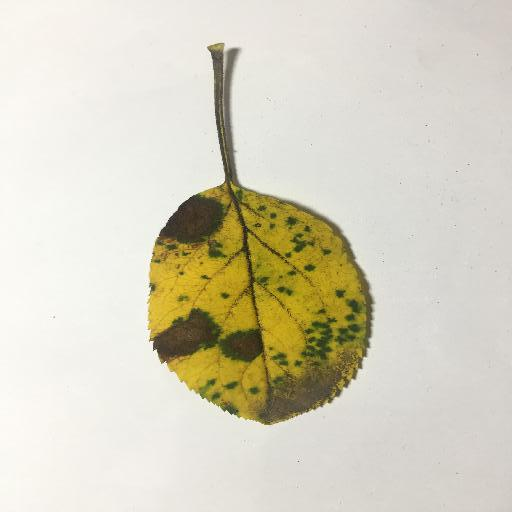Brown_Spot: (273, 297, 370, 359), (268, 362, 343, 414), (160, 205, 223, 237), (156, 326, 225, 348), (207, 330, 259, 359)
